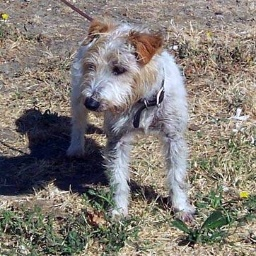dog: (61, 23, 212, 226)
